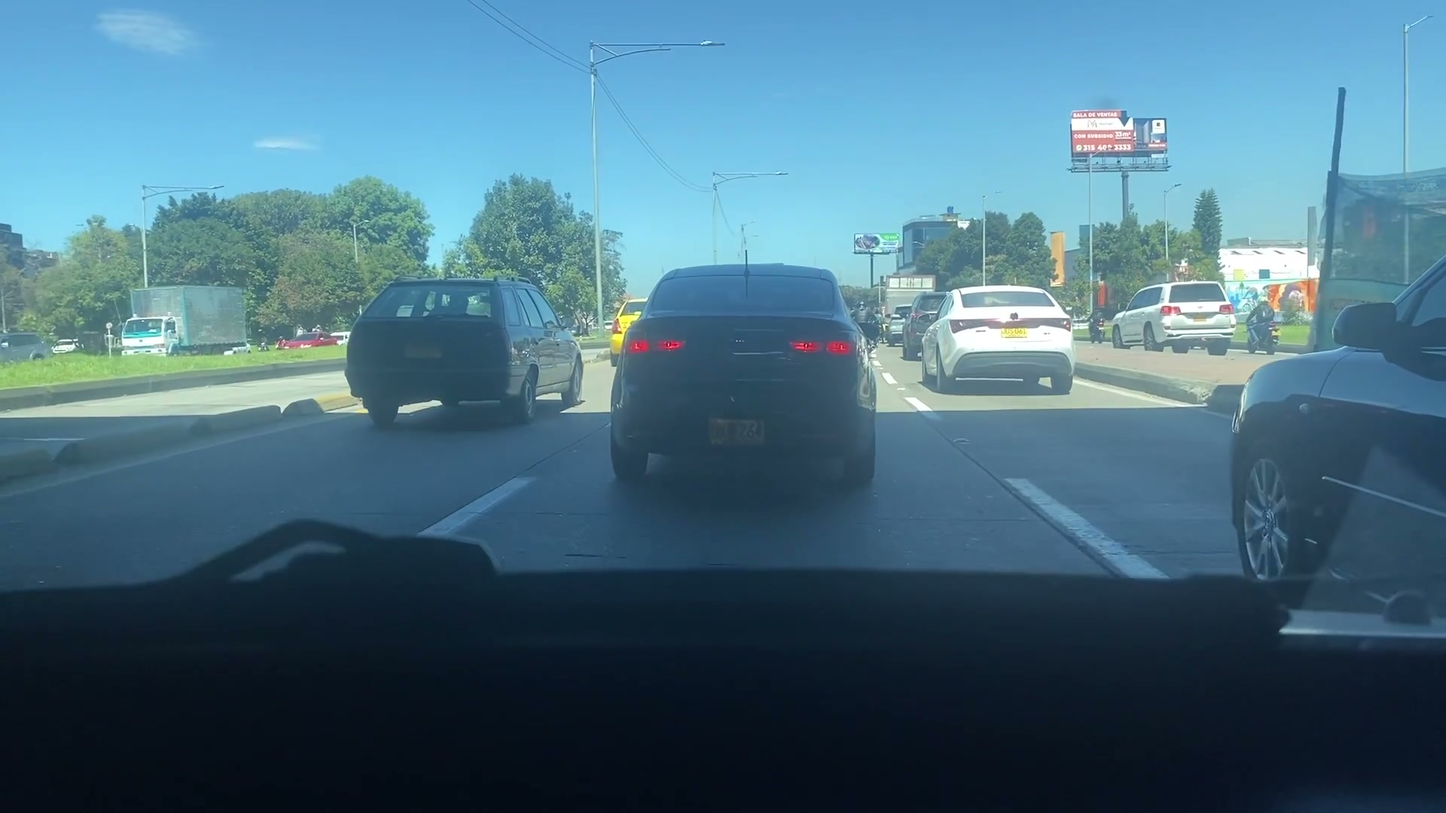car: (1229, 257, 1446, 583), (609, 262, 878, 487), (343, 274, 583, 424), (915, 281, 1077, 396), (1112, 281, 1234, 355), (899, 286, 948, 360), (888, 300, 920, 350), (284, 331, 338, 356)
motorcycle: (1245, 317, 1279, 358), (1087, 316, 1108, 344)
person: (1253, 288, 1274, 346)
truck: (118, 280, 247, 358)
